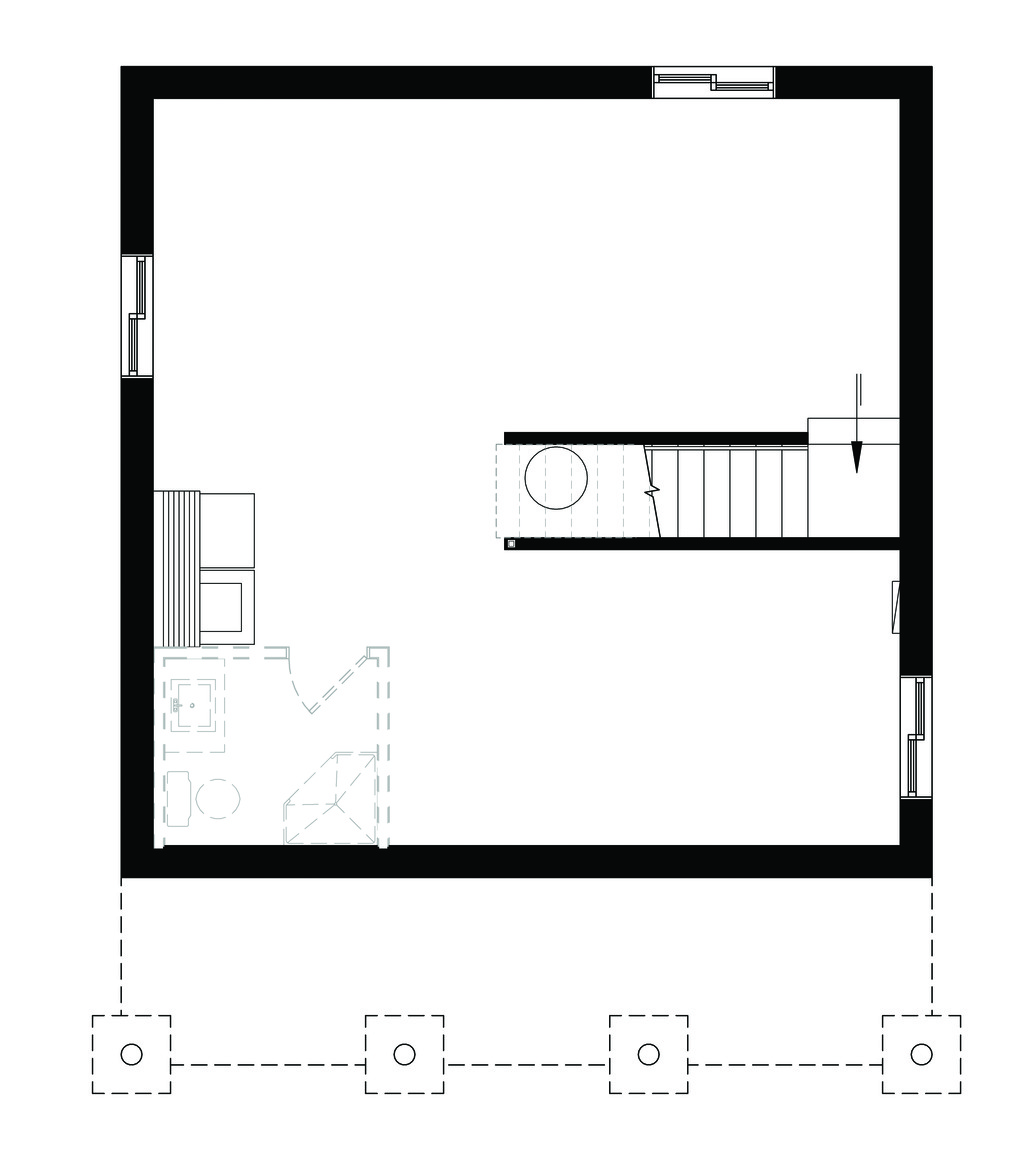door: (280, 649, 385, 736)
large_sink: (151, 769, 269, 861)
small_sink: (160, 663, 233, 751)
stairs: (545, 438, 907, 545)
window: (884, 661, 955, 812), (115, 249, 167, 394), (649, 71, 780, 103)
